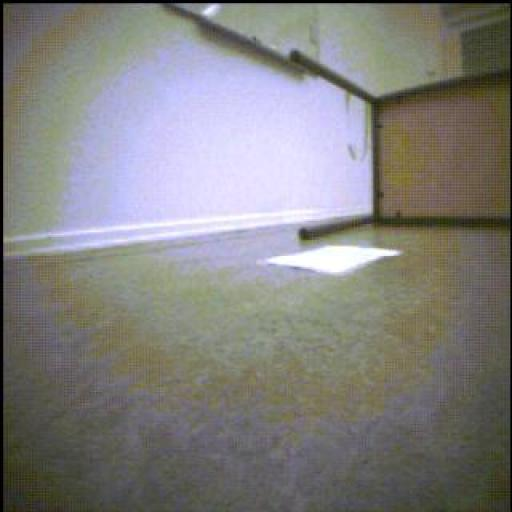Pad: (265, 248, 403, 277)
